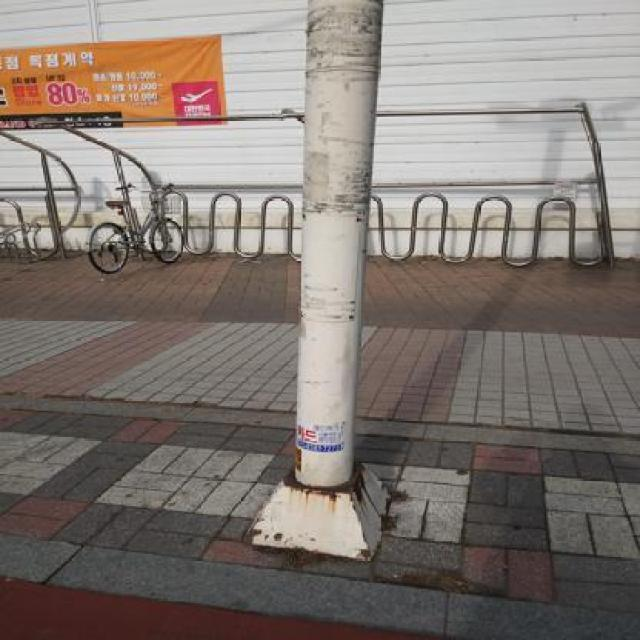pole: (230, 0, 415, 572)
